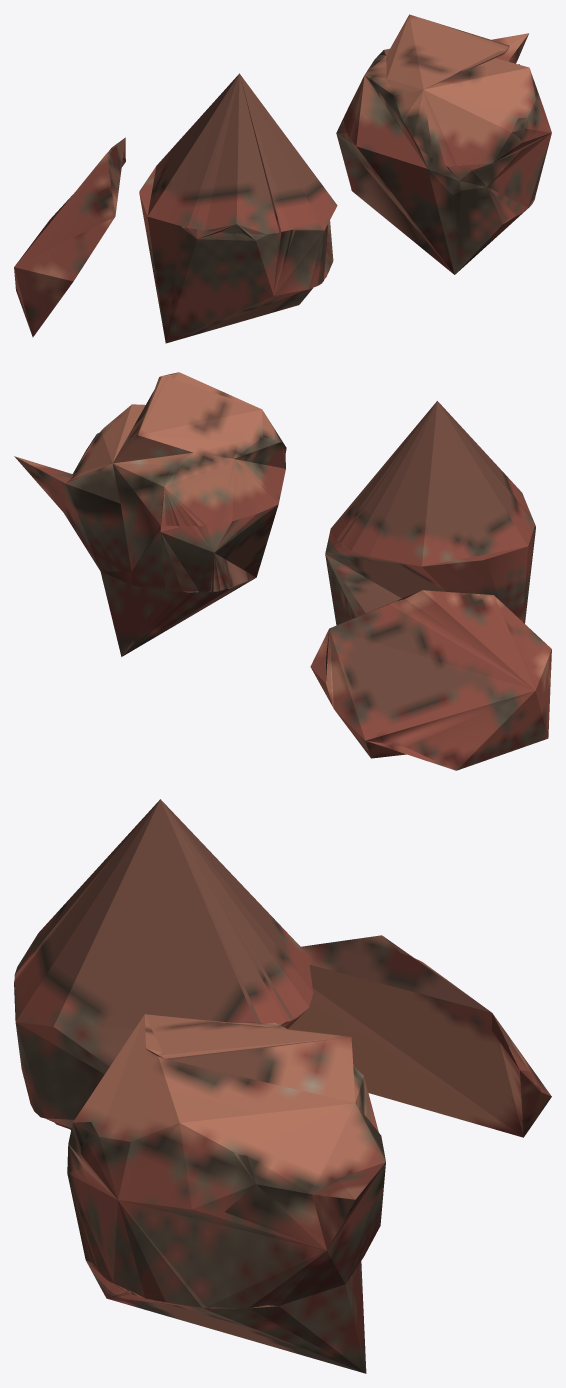
File: SM_MeshyUrns.fbx
3 views of the same model, one above another, from view 1: azimuth 30°, elevation 25°; view 2: azimuth 150°, elevation 25°; view 3: azimuth 270°, elevation 25° (orthographic). The views are drawn at different scales.
Visible parts, largest first — view 1: SM_MeshyUrns; view 2: SM_MeshyUrns; view 3: SM_MeshyUrns.
Boxes of the visible parts, left/top/right/bottom form: SM_MeshyUrns: left=14, top=14, right=551, bottom=343; SM_MeshyUrns: left=14, top=372, right=551, bottom=770; SM_MeshyUrns: left=14, top=799, right=551, bottom=1373.
Bounding box in the file's own units: 1.05 × 0.5115 × 0.6301.
1 material, 1 textured.
